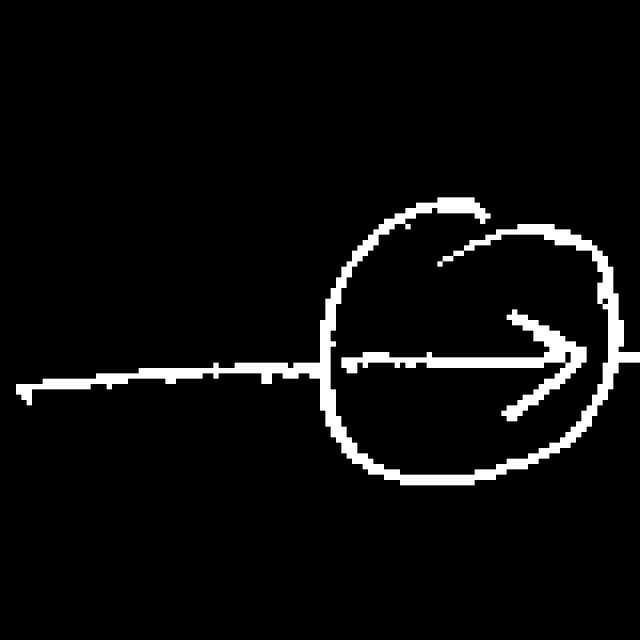current_source: (304, 187, 640, 496)
